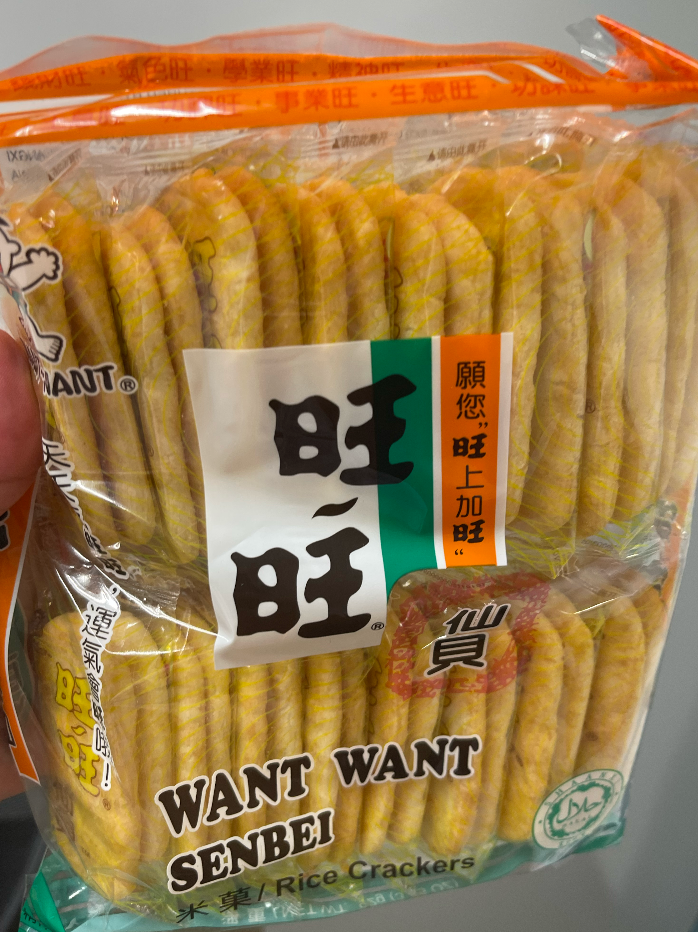crackers_1g-99g: (52, 179, 627, 877)
